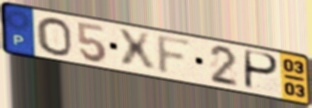2: (208, 45, 239, 90)
5: (75, 20, 109, 65)
F: (155, 33, 195, 78)
O: (35, 16, 74, 58)
P: (243, 48, 281, 92)
X: (115, 27, 159, 74)
